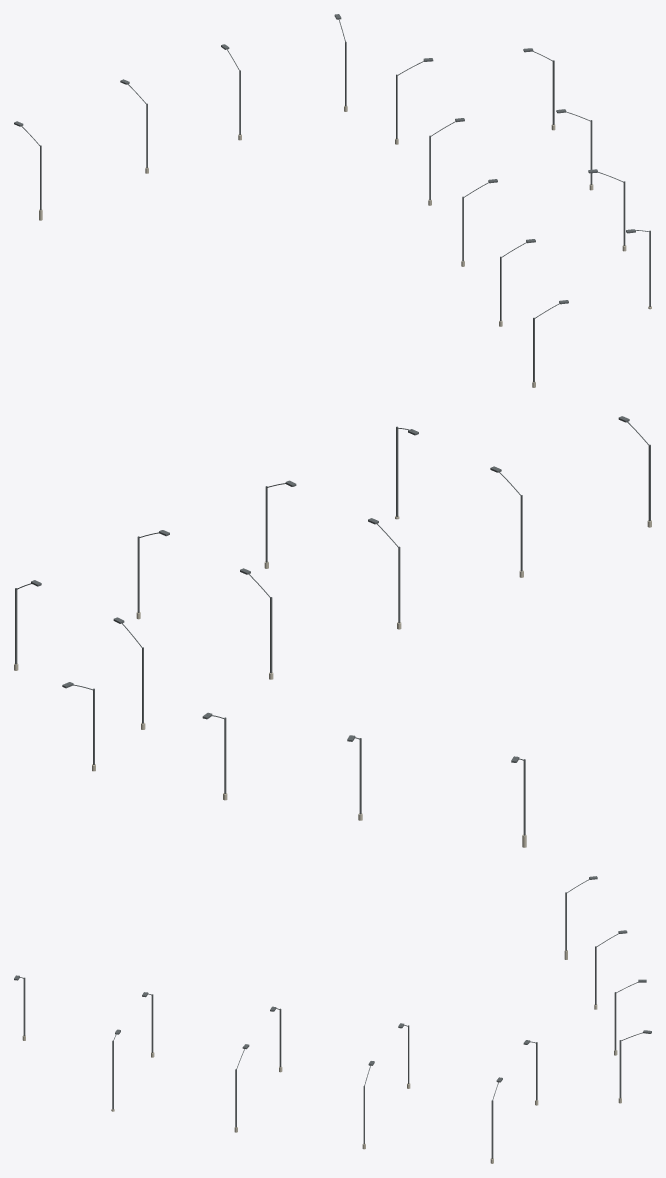
The picture shows the model from 3 angles, top to bottom: view 1: azimuth 30°, elevation 25°; view 2: azimuth 150°, elevation 25°; view 3: azimuth 270°, elevation 25°; orthographic projection. The views are drawn at different scales.
Visible parts, largest first — view 1: buildings_s_-3_-3_Dark_Metal; view 2: buildings_s_-3_-3_Dark_Metal; view 3: buildings_s_-3_-3_Dark_Metal.
Boxes of the visible parts, left/top/right/bottom form: buildings_s_-3_-3_Dark_Metal: left=14, top=14, right=650, bottom=382; buildings_s_-3_-3_Dark_Metal: left=15, top=416, right=650, bottom=835; buildings_s_-3_-3_Dark_Metal: left=14, top=876, right=651, bottom=1158.
Size of the model in its own units: 102 by 17.75 by 130.
